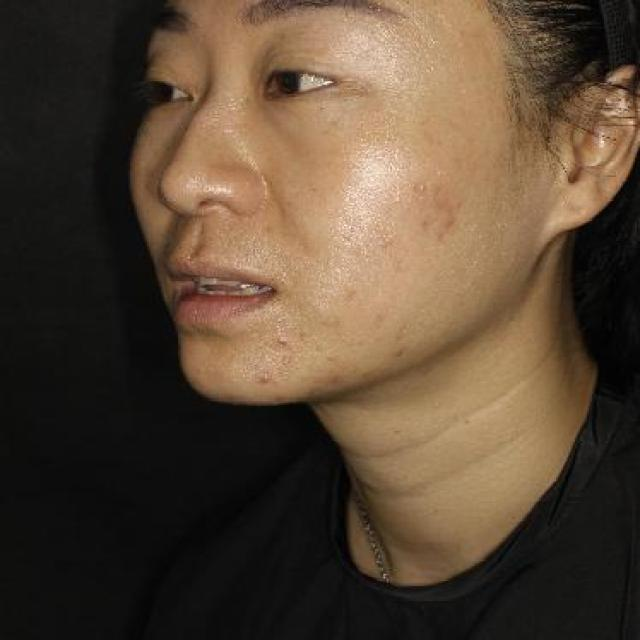papules: (256, 372, 274, 388), (274, 336, 292, 350)
whiteheads: (412, 174, 437, 195), (322, 252, 337, 276)
